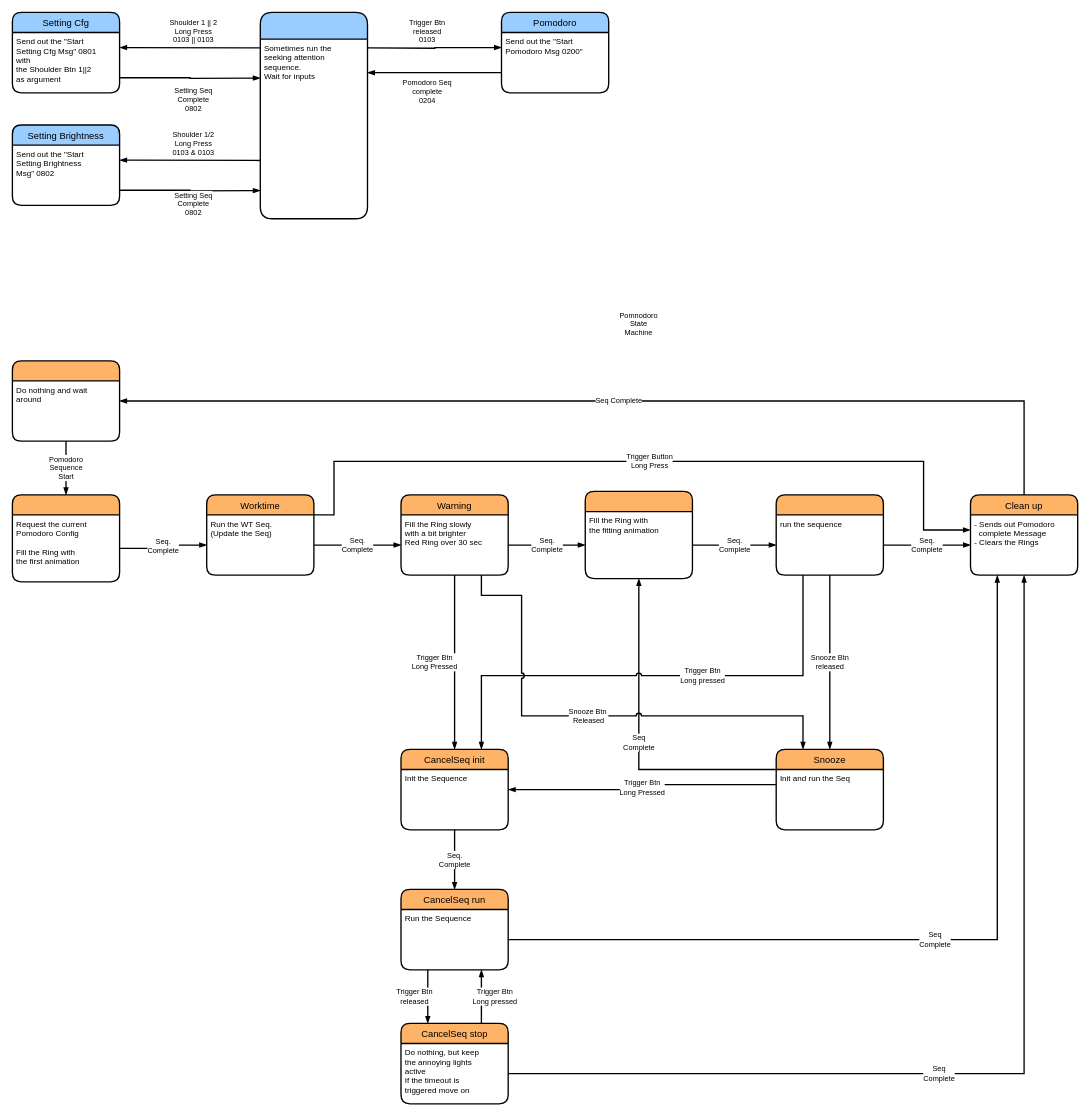
Image size: 1089x1116. Some labels were removed from this diagram. Each missing label, with the box of its shape:
Breaktime: (775, 494, 884, 576)
Breaktime Init: (584, 490, 693, 579)
Idle: (11, 360, 120, 442)
Idle / Seeking Attention: (259, 11, 368, 219)
Worktime Init: (11, 494, 120, 582)
